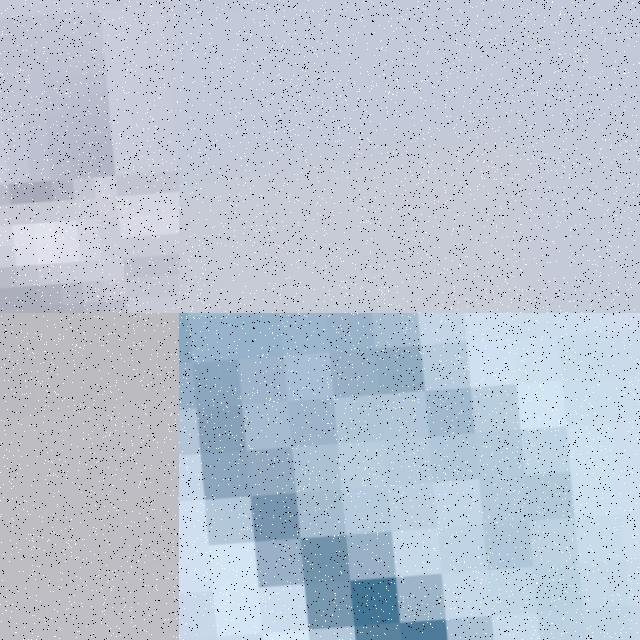drone: (179, 313, 640, 640), (0, 0, 179, 313)
